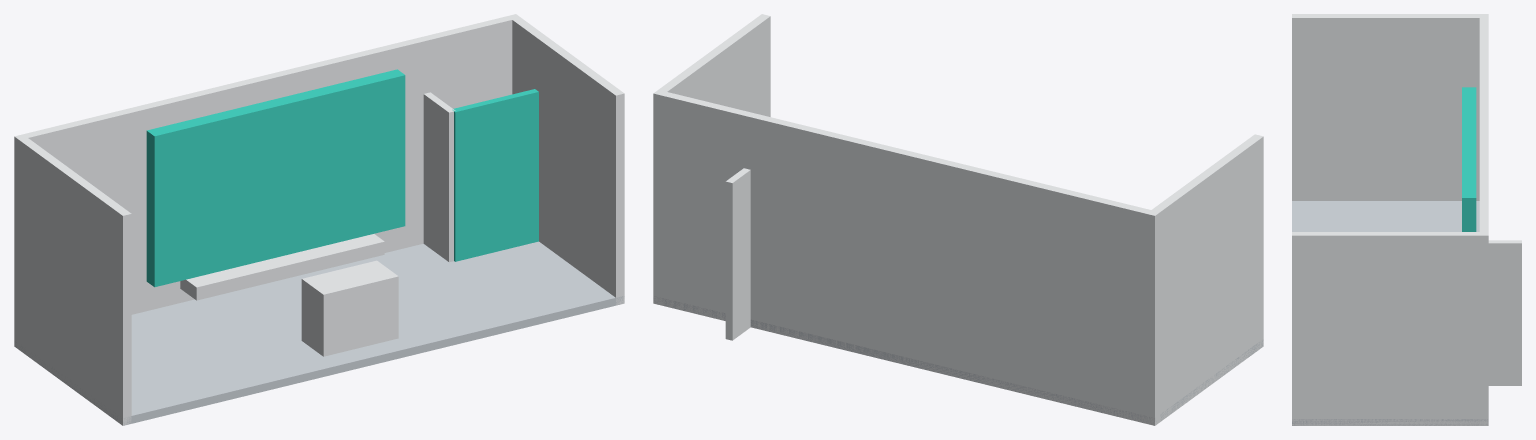
3 views of the same model, side by side, from view 1: azimuth 30°, elevation 25°; view 2: azimuth 150°, elevation 25°; view 3: azimuth 270°, elevation 25° (orthographic). The views are drawn at different scales.
Visible parts, largest first — view 1: Exhibition Booth Concept; view 2: Exhibition Booth Concept; view 3: Exhibition Booth Concept.
Boxes of the visible parts, x1,y1,x2,y2 form: Exhibition Booth Concept: (14, 14, 624, 425); Exhibition Booth Concept: (653, 14, 1263, 425); Exhibition Booth Concept: (1292, 14, 1521, 425).
Bounding box in the file's own units: 8 × 3.2 × 3.51.
